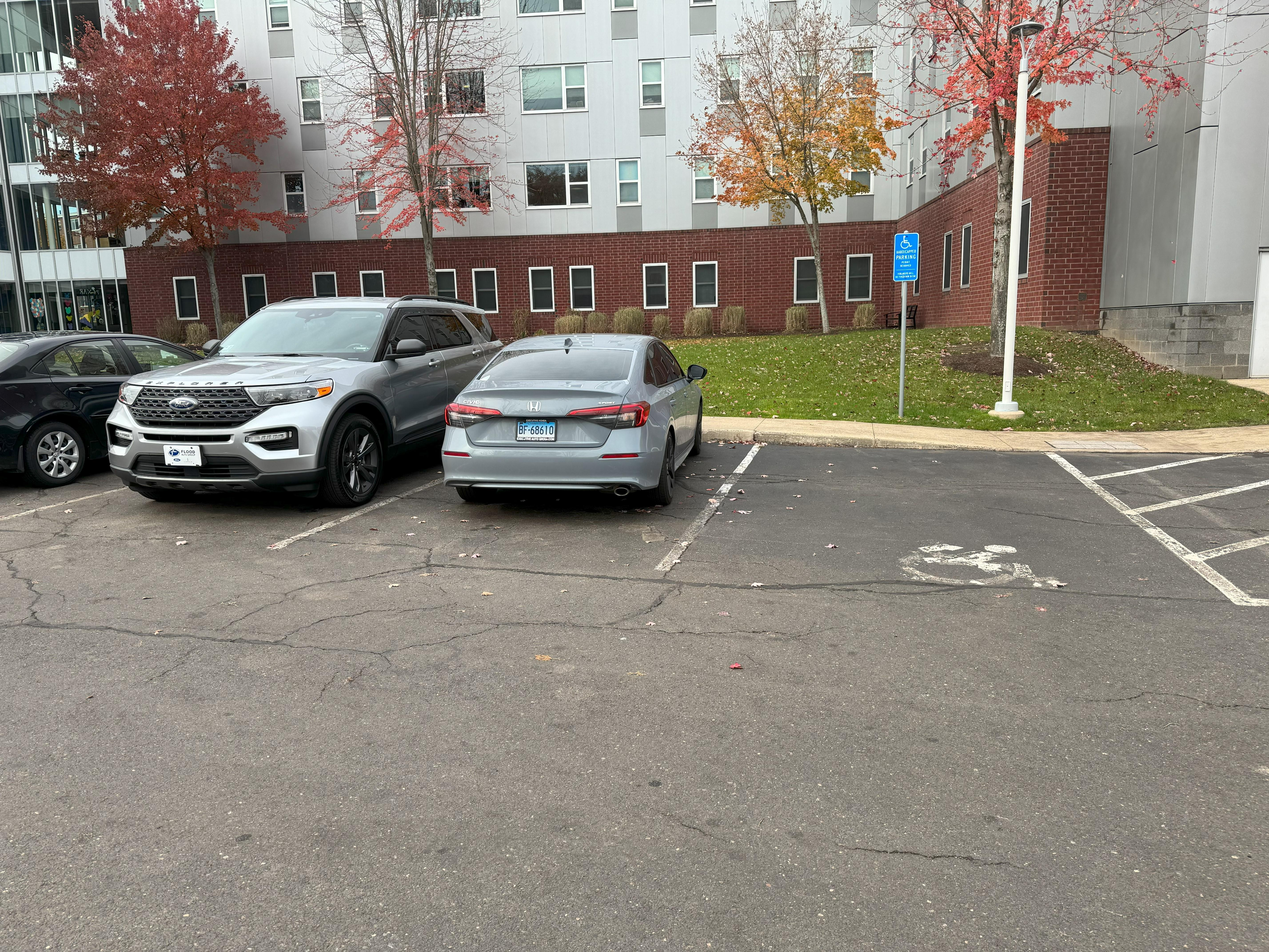empty: (765, 452, 1099, 602)
occupied: (96, 265, 491, 531), (437, 318, 734, 520), (9, 309, 132, 508)
